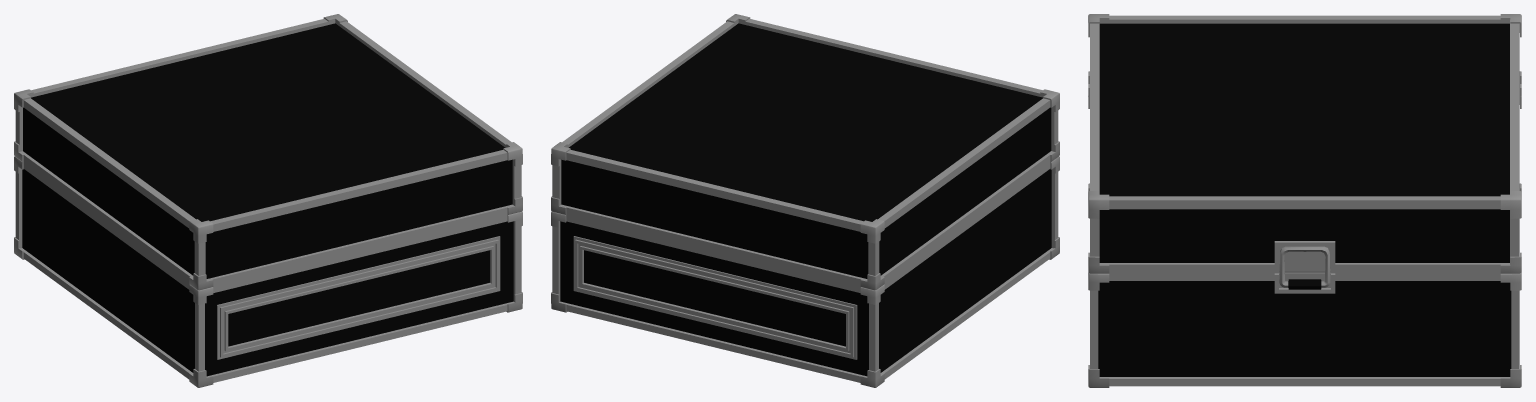
The model's file is StorageCrate_07.glb.
3 renders of one model, left to right at view 1: azimuth 30°, elevation 25°; view 2: azimuth 150°, elevation 25°; view 3: azimuth 270°, elevation 25°, orthographic. The views are drawn at different scales.
Visible parts, largest first — view 1: Mesh_StorageCrate_07; view 2: Mesh_StorageCrate_07; view 3: Mesh_StorageCrate_07.
Part boxes in pixels (box(x1,y1,x2,y2)): Mesh_StorageCrate_07: box(14, 14, 522, 387); Mesh_StorageCrate_07: box(551, 14, 1059, 387); Mesh_StorageCrate_07: box(1088, 14, 1521, 387).
Size of the model in its own units: 1.01 by 0.4745 by 0.9853.
Materials: 1 (1 with a texture image).
